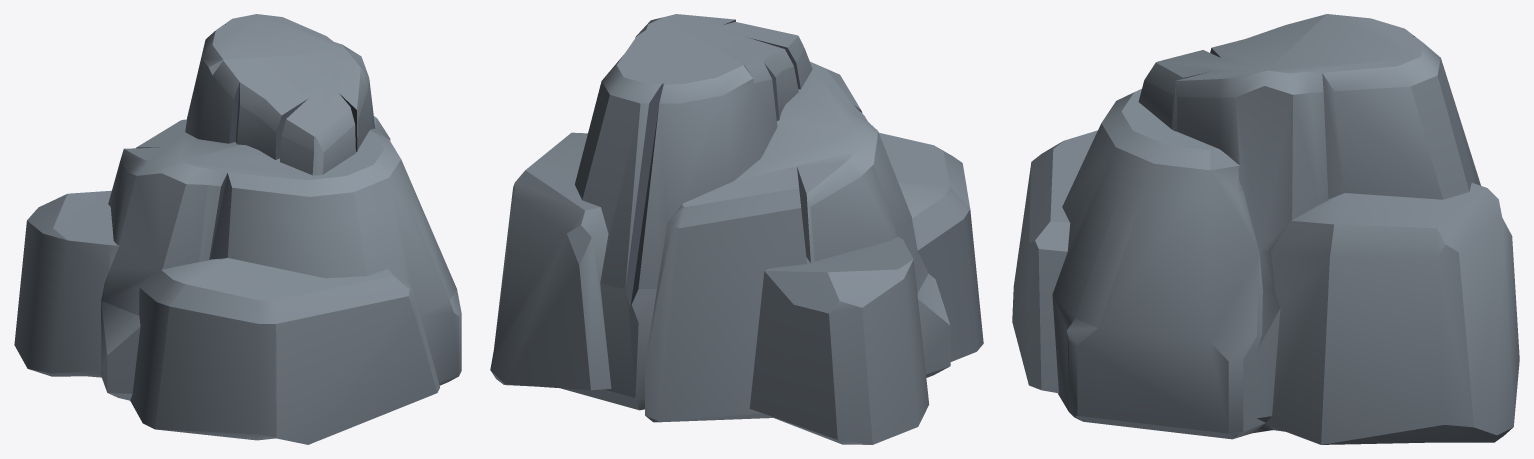
Rendered from Rock01.fbx.
The picture shows the model from 3 angles, left to right: view 1: azimuth 30°, elevation 25°; view 2: azimuth 150°, elevation 25°; view 3: azimuth 270°, elevation 25°; orthographic projection. The views are drawn at different scales.
Visible parts, largest first — view 1: Rock01; view 2: Rock01; view 3: Rock01.
Boxes of the visible parts, x1=… form: Rock01: x1=14, y1=14, x2=461, y2=444; Rock01: x1=490, y1=14, x2=983, y2=444; Rock01: x1=1012, y1=14, x2=1519, y2=444.
Bounding box in the file's own units: 3.2 × 2.41 × 3.29.
